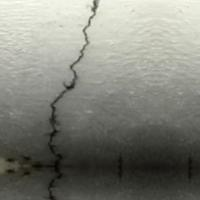crack: (38, 0, 125, 199)
